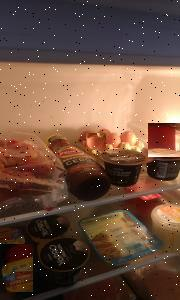Huevos: (86, 133, 106, 150), (120, 130, 137, 146), (105, 132, 121, 148)
Yogur: (0, 244, 33, 292), (148, 123, 180, 157)
